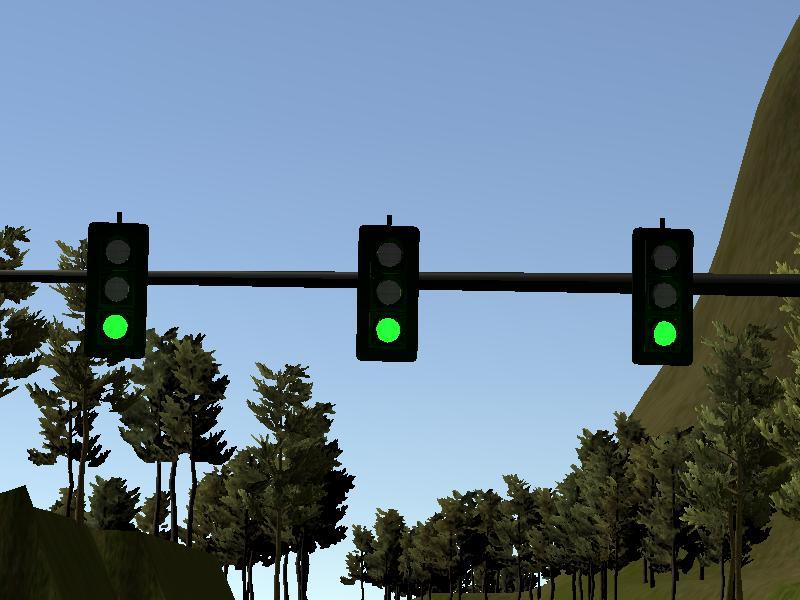Green: (632, 230, 691, 363), (361, 225, 416, 359), (89, 224, 142, 352)
